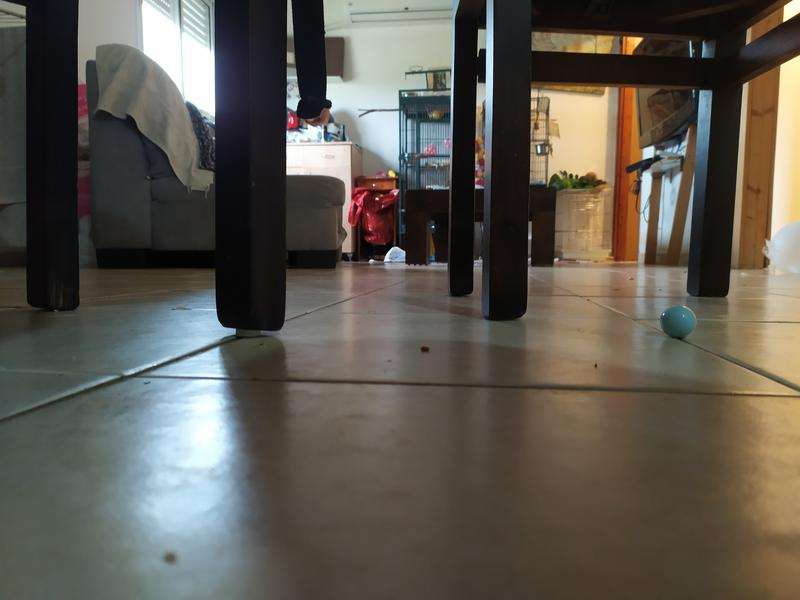Warning: (658, 303, 700, 340)
